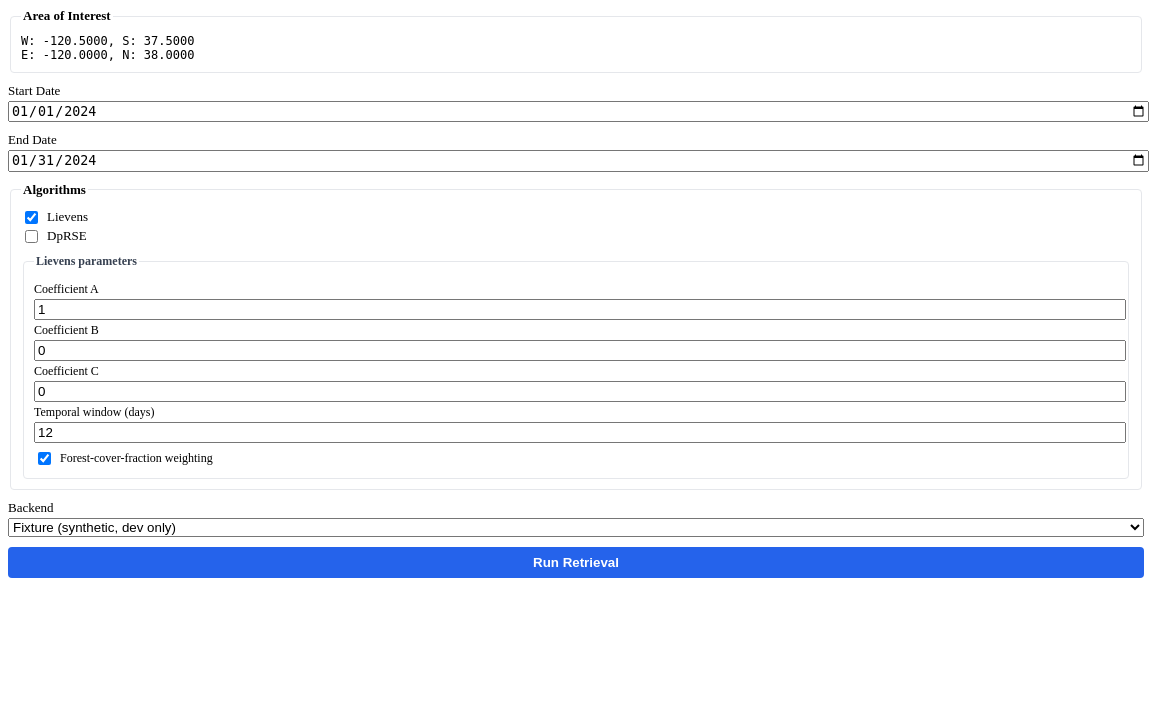
Test: ControlPanel › disables submit when no algorithms are selected
The width and height of the screenshot is (1164, 720).
Click the checkbox labelled "Lievens" at (32, 217), box [25, 211, 38, 224]
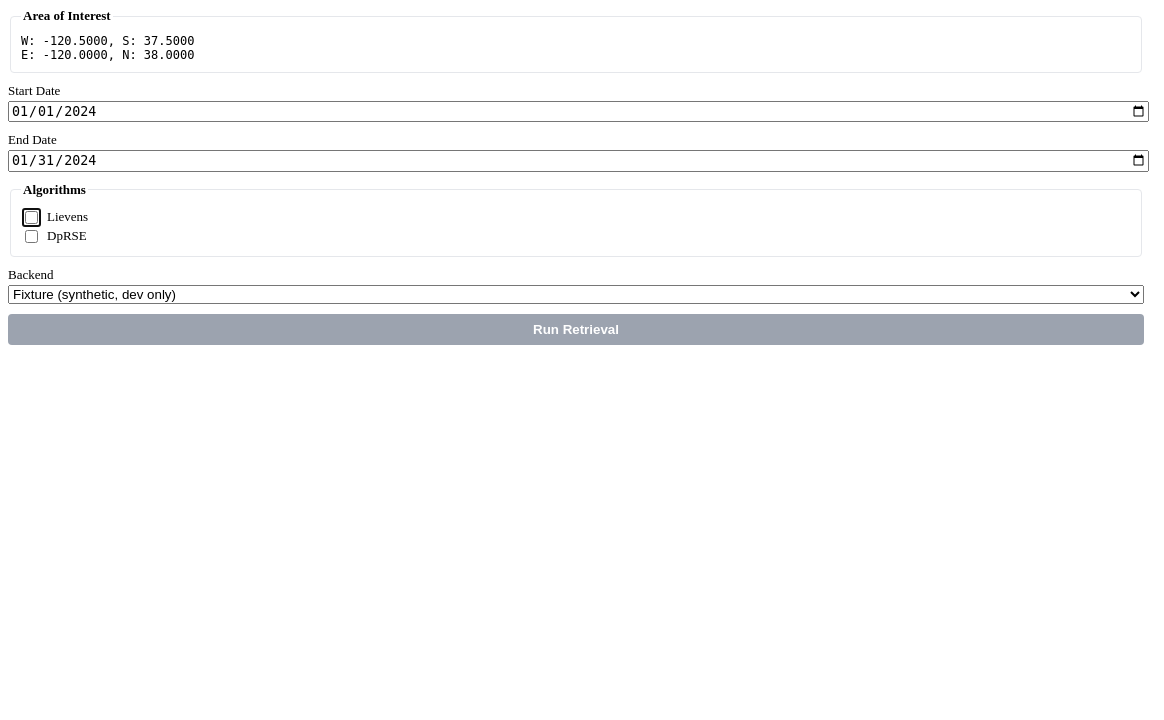
Now the button "Run Retrieval" is disabled, box [8, 314, 1144, 345]
